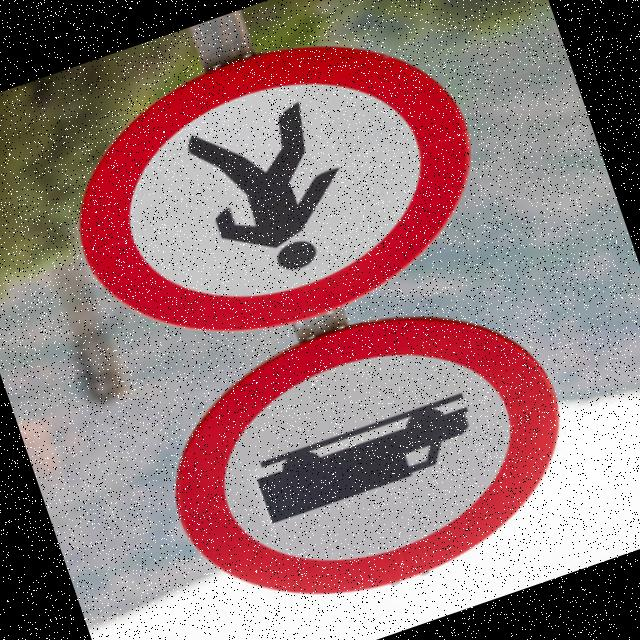do_not_enter: (114, 258, 619, 640)
